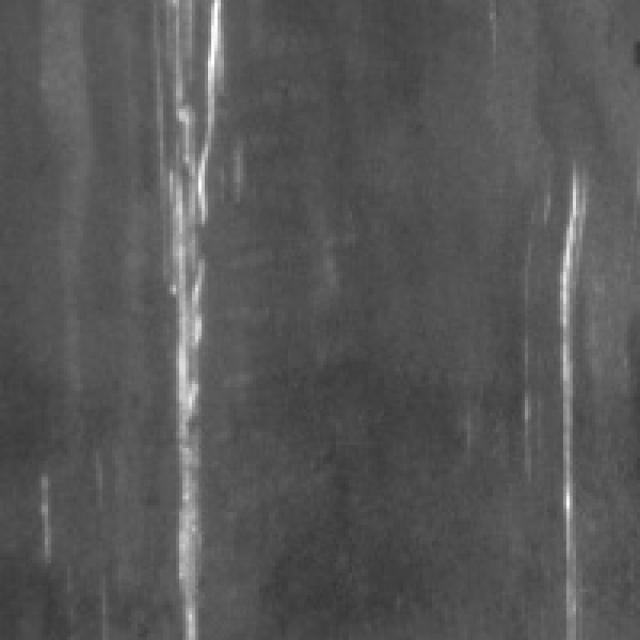scratches: (150, 0, 234, 637), (541, 134, 598, 630)
